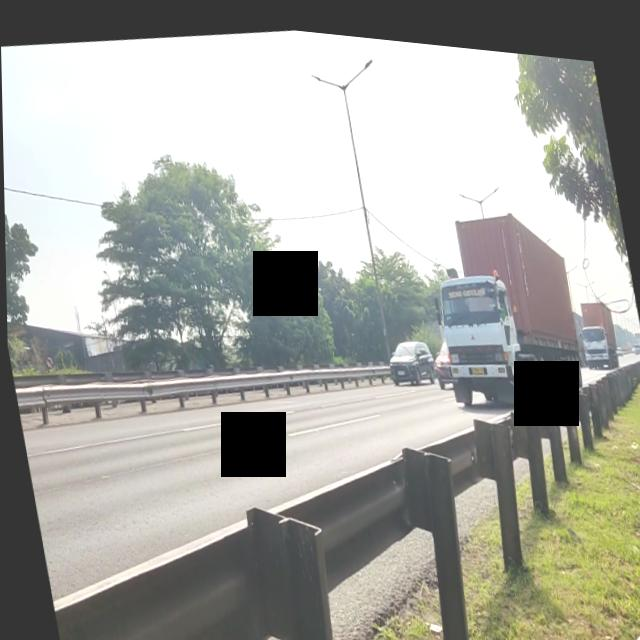Golongan V: (423, 203, 591, 418)
